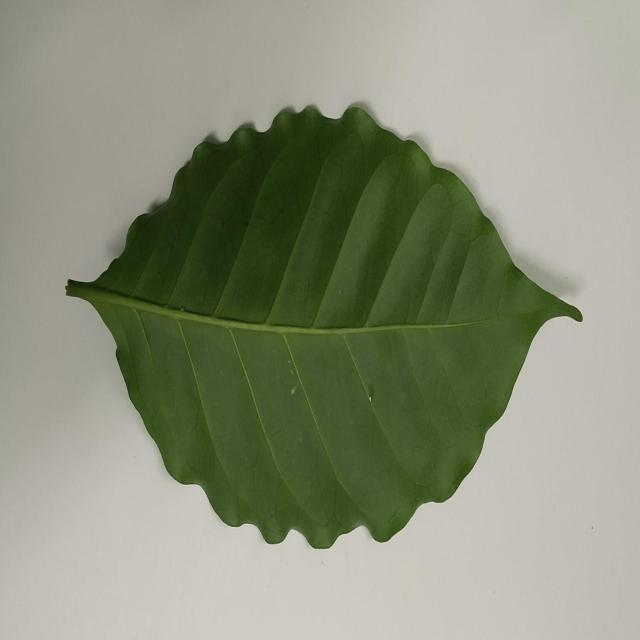Sanas: (63, 104, 584, 551)
